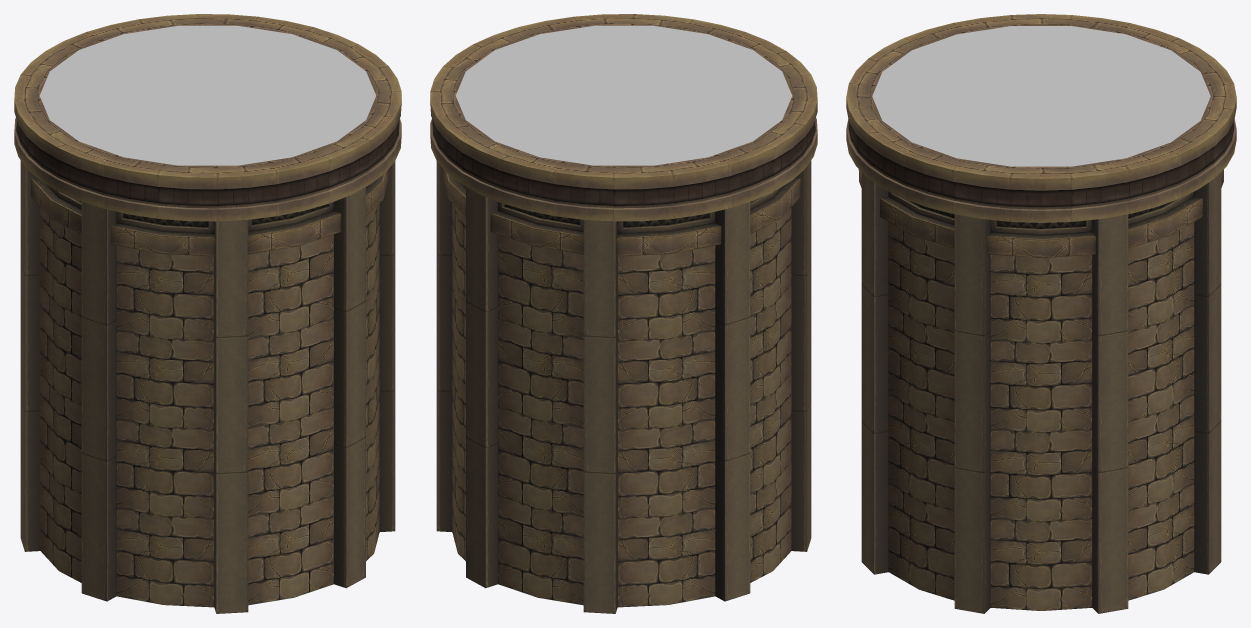
Rendered from Boss_YuanTai_001.FBX.
3 renders of one model, left to right at view 1: azimuth 30°, elevation 25°; view 2: azimuth 150°, elevation 25°; view 3: azimuth 270°, elevation 25°, orthographic.
Visible parts, largest first — view 1: Boss_YuanTai_001, Boss_YuanTai_002; view 2: Boss_YuanTai_001, Boss_YuanTai_002; view 3: Boss_YuanTai_001, Boss_YuanTai_002.
Boxes of the visible parts, left/top/right/bottom form: Boss_YuanTai_001: left=14, top=14, right=401, bottom=613; Boss_YuanTai_002: left=39, top=25, right=376, bottom=165; Boss_YuanTai_001: left=430, top=14, right=817, bottom=613; Boss_YuanTai_002: left=455, top=25, right=792, bottom=165; Boss_YuanTai_001: left=846, top=14, right=1236, bottom=613; Boss_YuanTai_002: left=872, top=26, right=1210, bottom=166.
Bounding box in the file's own units: 1353 × 1690 × 1353.
